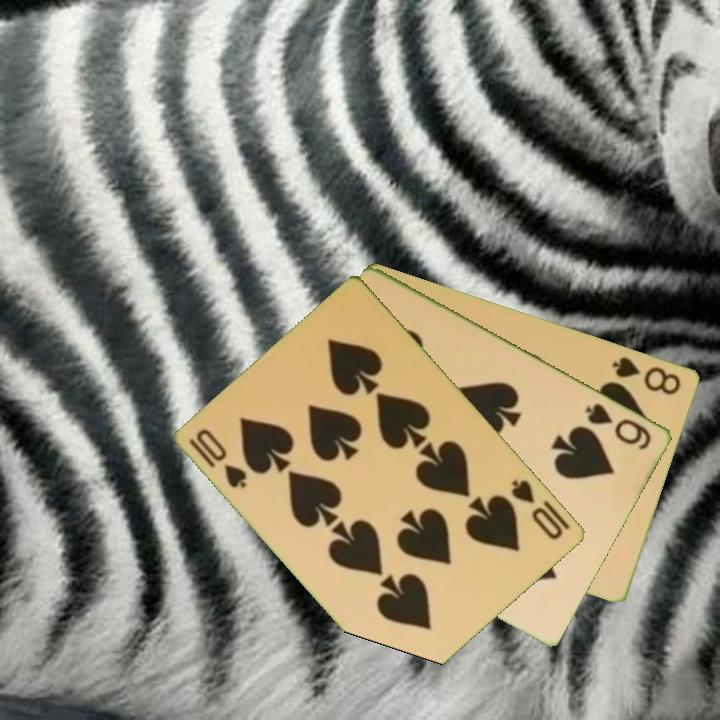10s: (186, 425, 251, 492), (508, 475, 566, 543)
6s: (582, 399, 655, 453)
8s: (609, 352, 684, 398)
